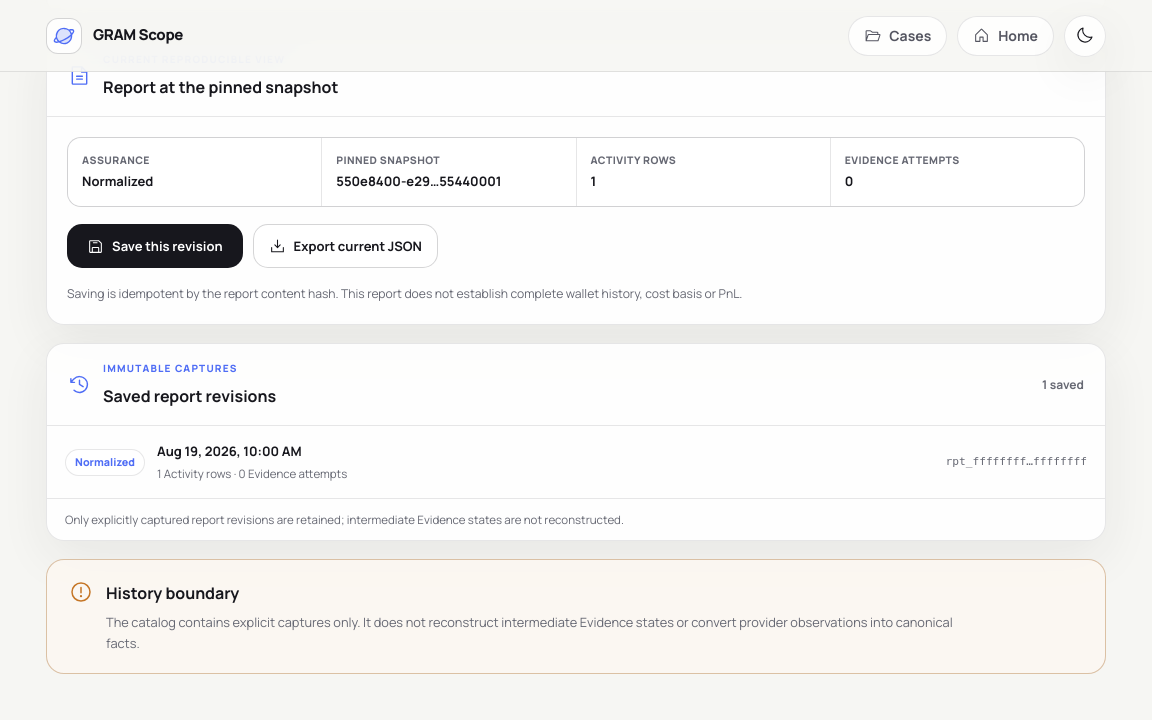
Test case: Wallet Case application flow › opens a deep-linked Case Reports catalog and restores an exact saved revision
(page scrolled)
Expected: the heading "Saved report revisions" is shown, 103,385 -> 276,407
Click the link "Activity rows".
click(105, 462)  # box 65,442 -> 1087,481
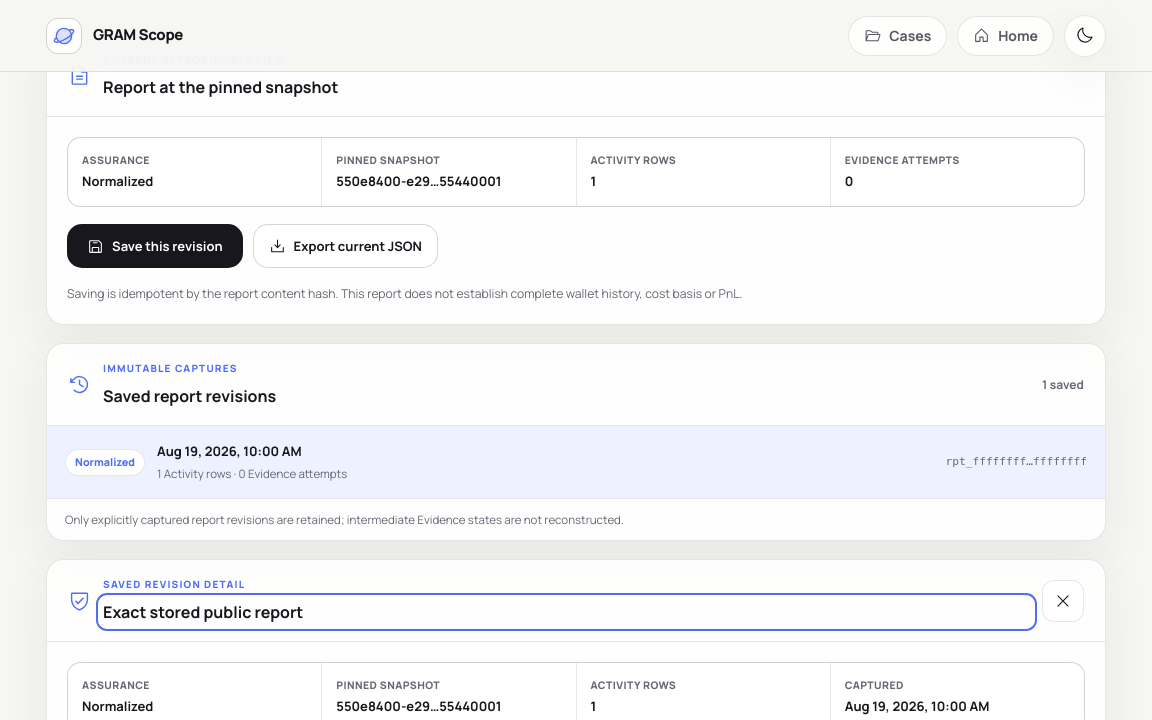
Result: the heading "Exact stored public report" is shown at 103,601 -> 303,623
